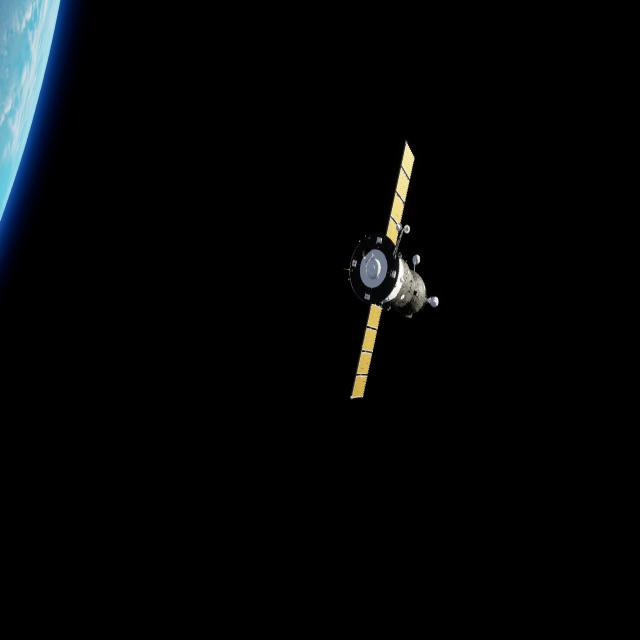Satellites revolving around earth: (344, 138, 440, 403)
